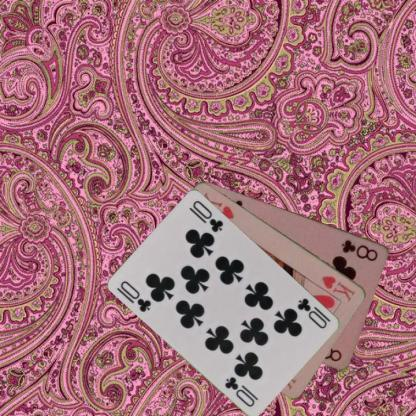10c: (115, 278, 153, 313), (294, 295, 328, 330)
8c: (338, 237, 380, 262)
Kh: (318, 274, 357, 304)
